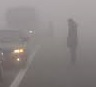person: (66, 18, 79, 63), (47, 21, 53, 39)
